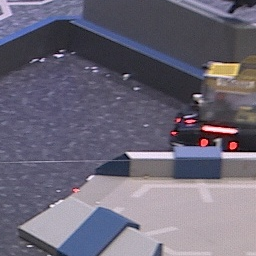Red: (199, 136, 238, 153)
Robot: (168, 57, 256, 153)
